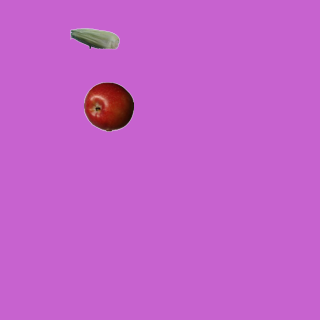Apple Braeburn: (83, 81, 133, 131)
Corn Husk: (69, 13, 119, 63)
